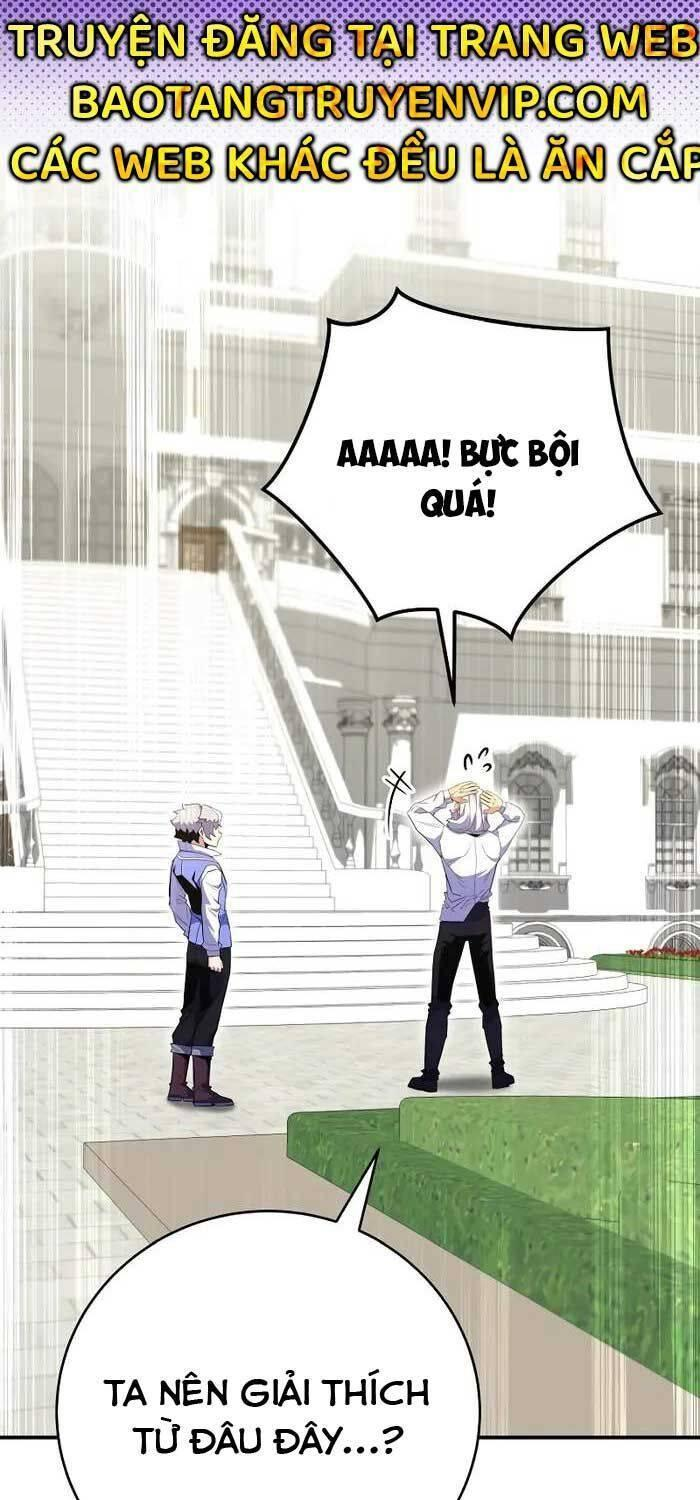quangcao: (0, 0, 700, 202)
